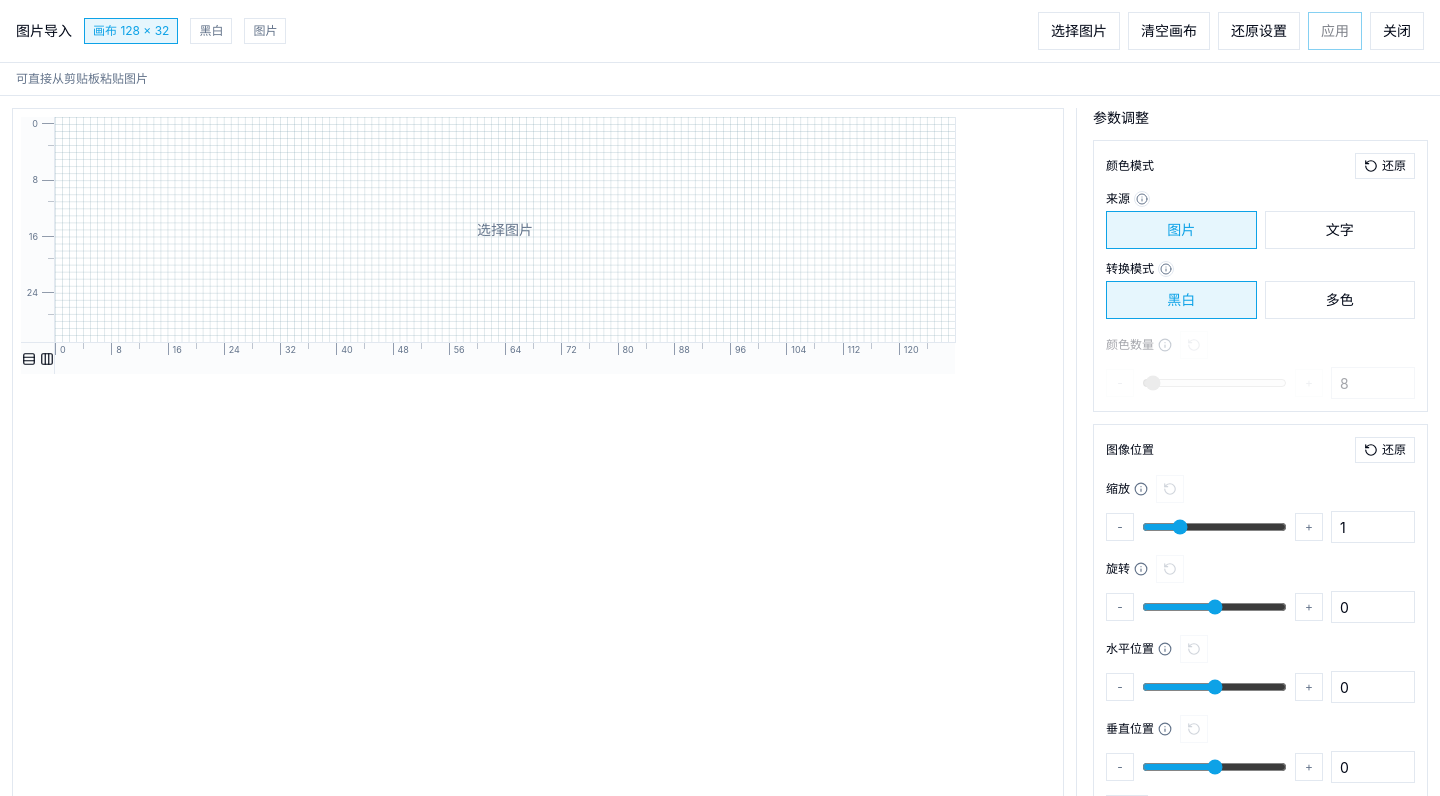
shows parameter hints on hover
The width and height of the screenshot is (1440, 796).
Hover over the button named "黑白模式输出可直接应用的像素，多色模式用于测试预览和参数效果。 说明" at point(1166, 269), box [1158, 261, 1174, 277]
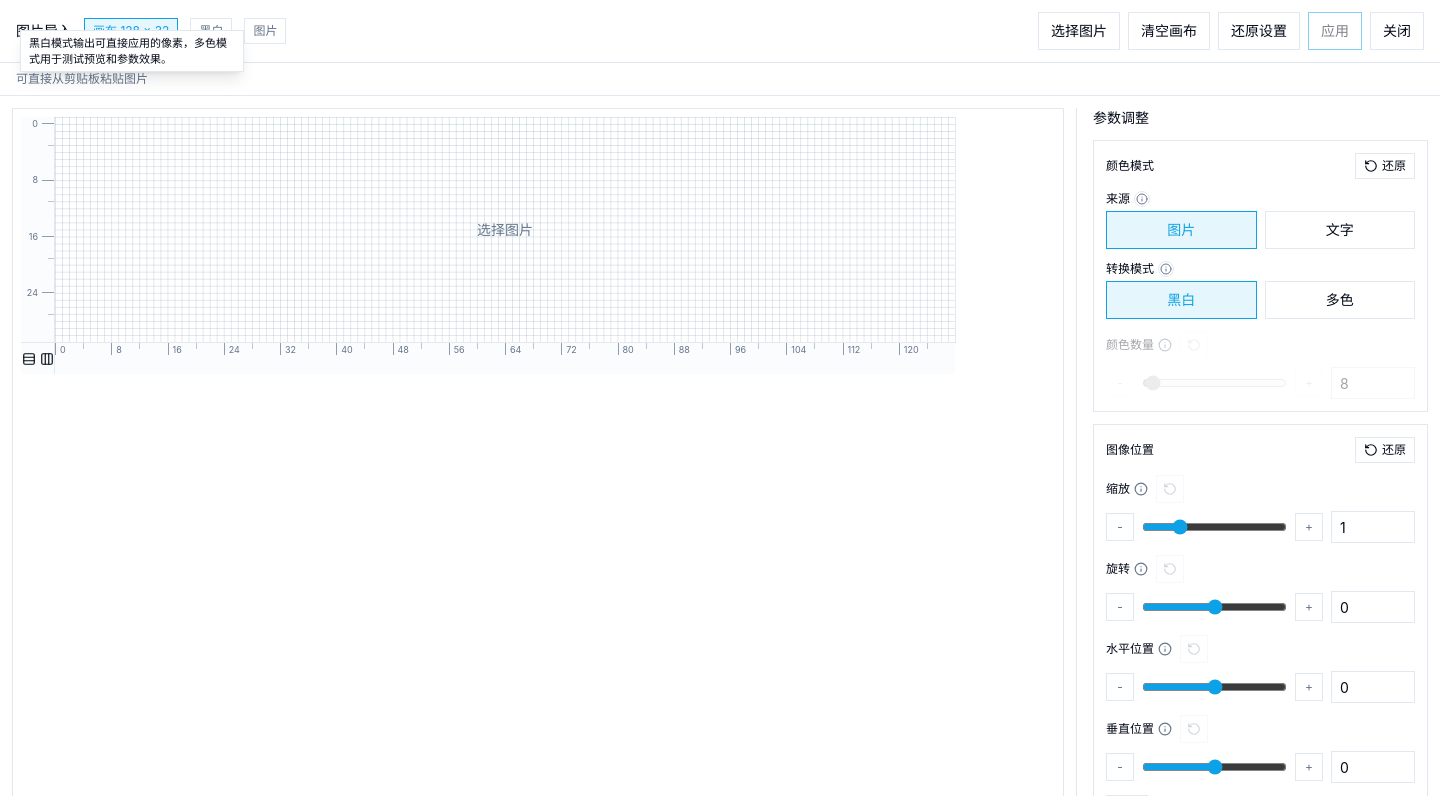
Result: the tooltip shows "黑白模式输出可直接应用的像素" at [29, 36, 227, 66]
